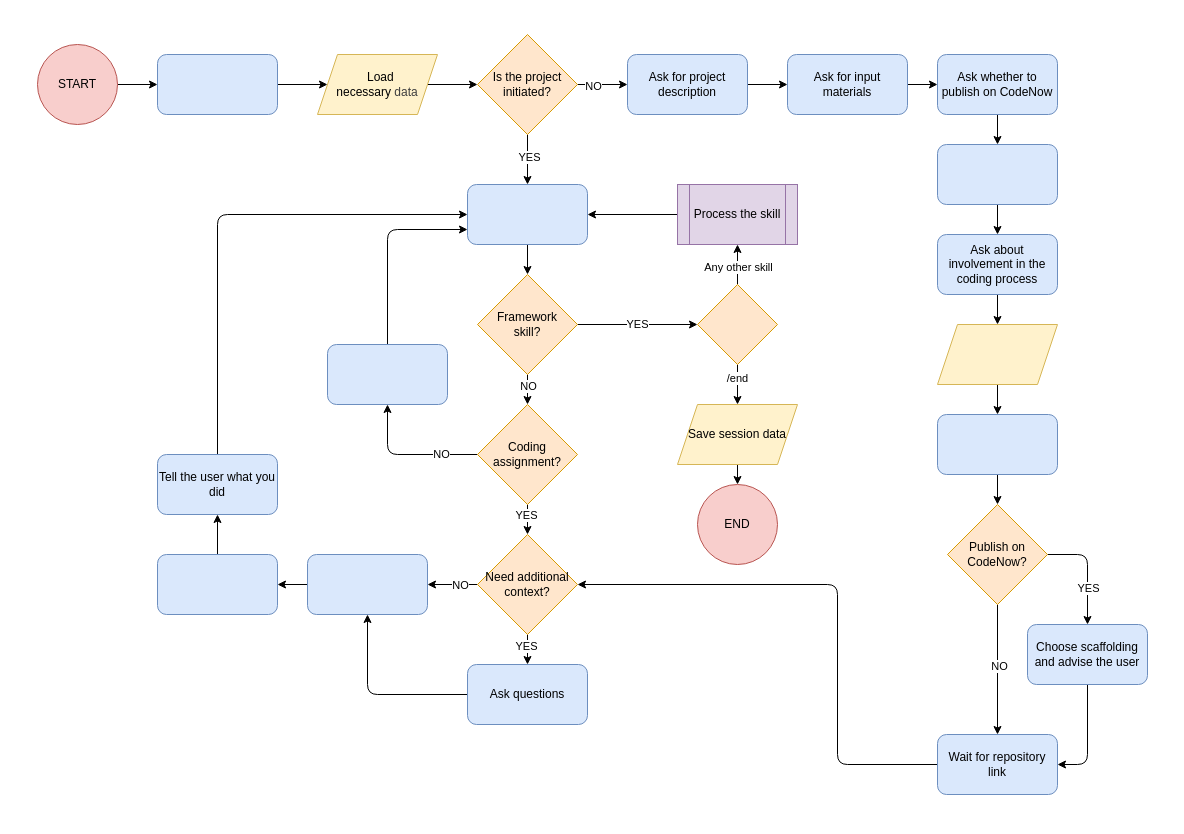
This 1184x834 diagram has some shape labels left out. The shapes that lost their labels are listed below. From the top down, each one's centre as x and y in pixels, then its label:
At pixel 217 84: "/start (skill)".
At pixel 997 174: "Ask who does the commits".
At pixel 527 214: "Wait for user input".
At pixel 737 324: "What skill?".
At pixel 387 374: "Help the user".
At pixel 997 354: "Save information".
At pixel 997 444: "Process the user input".
At pixel 217 584: "update CLAUDE.md".
At pixel 367 584: "Code".
